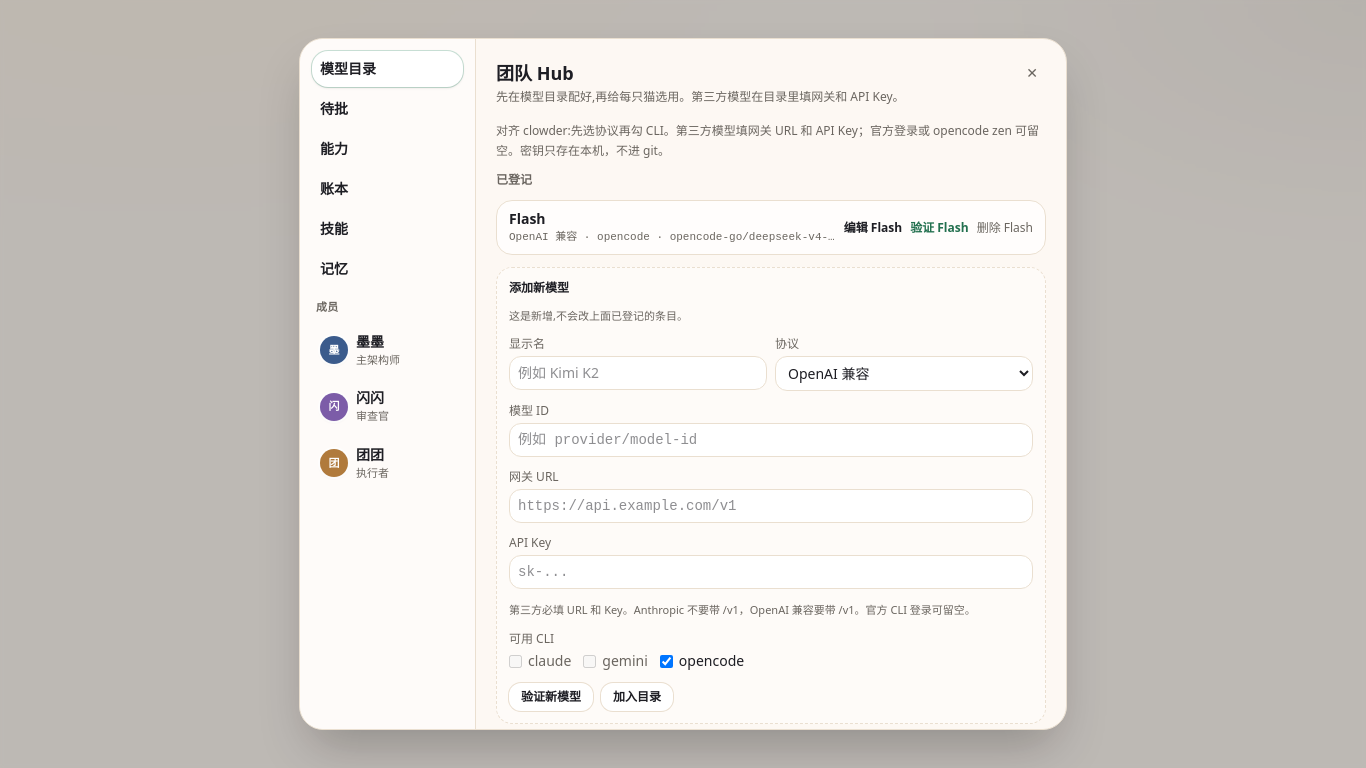
Scenario: TeamHub › 能力页只读列出谁写谁审谁跑
Click the button "能力".
click(388, 149)  # box [312, 131, 463, 167]
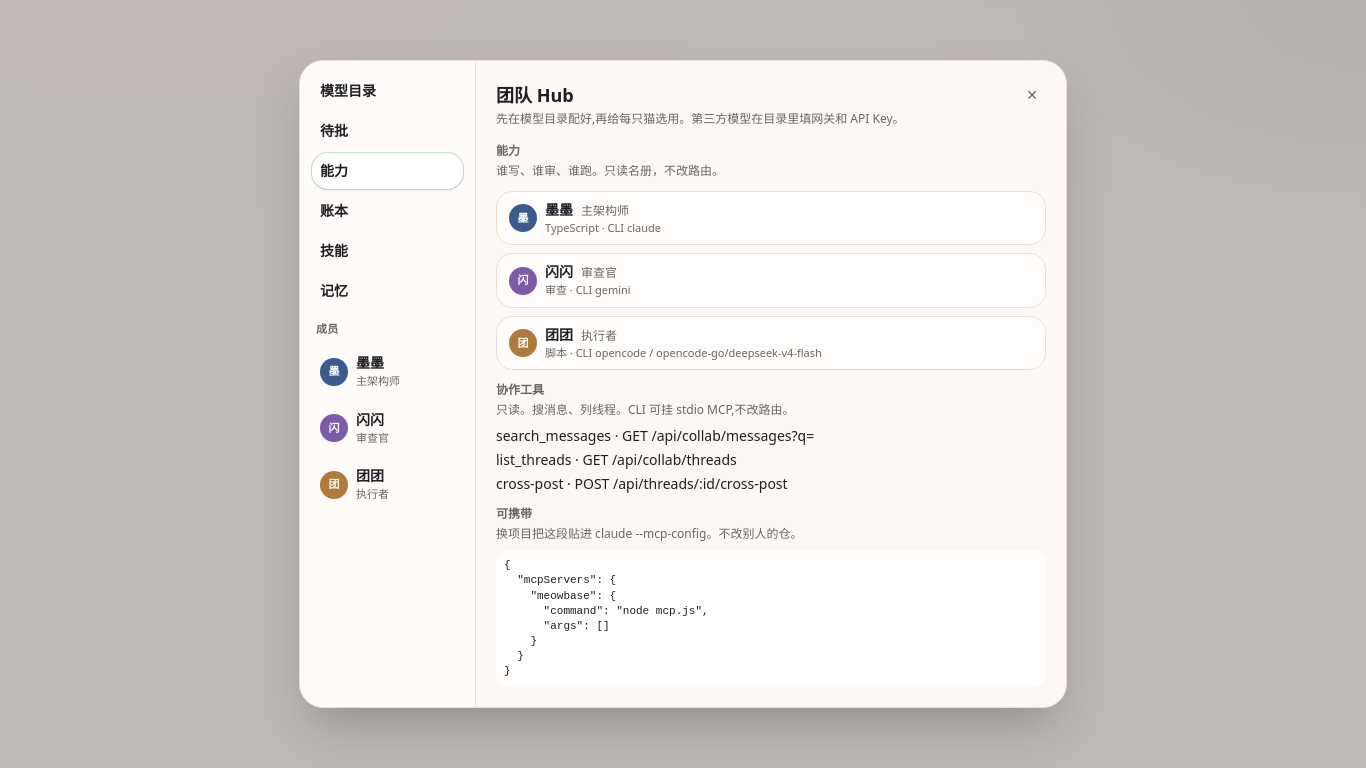
Check: the text "谁写、谁审、谁跑。只读名册，不改路由。" is shown, box [496, 162, 724, 179]
Check: the text "TypeScript · CLI claude" is shown, box [545, 220, 661, 236]
Check: the text "审查 · CLI gemini" is shown, box [545, 282, 631, 299]
